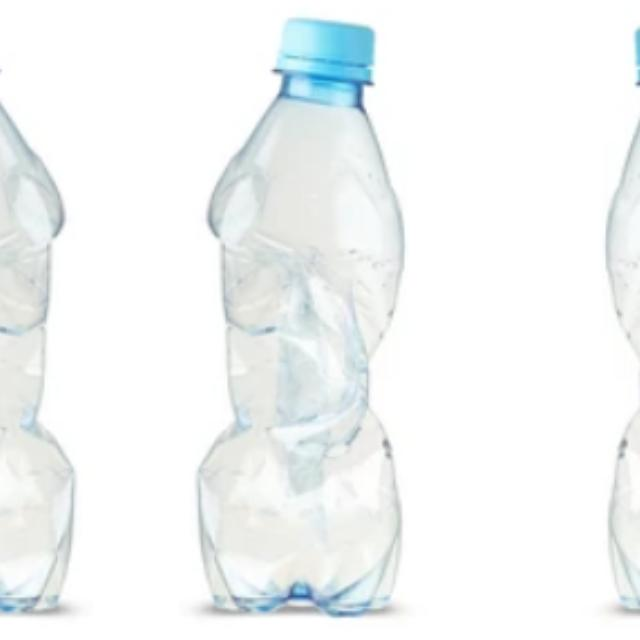Plastic: (178, 11, 452, 626), (0, 10, 92, 625), (557, 10, 640, 625)
